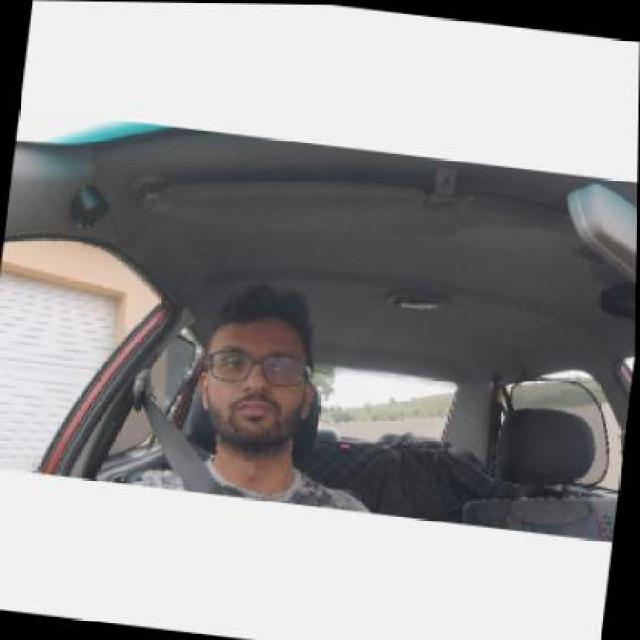person: (191, 284, 335, 453)
